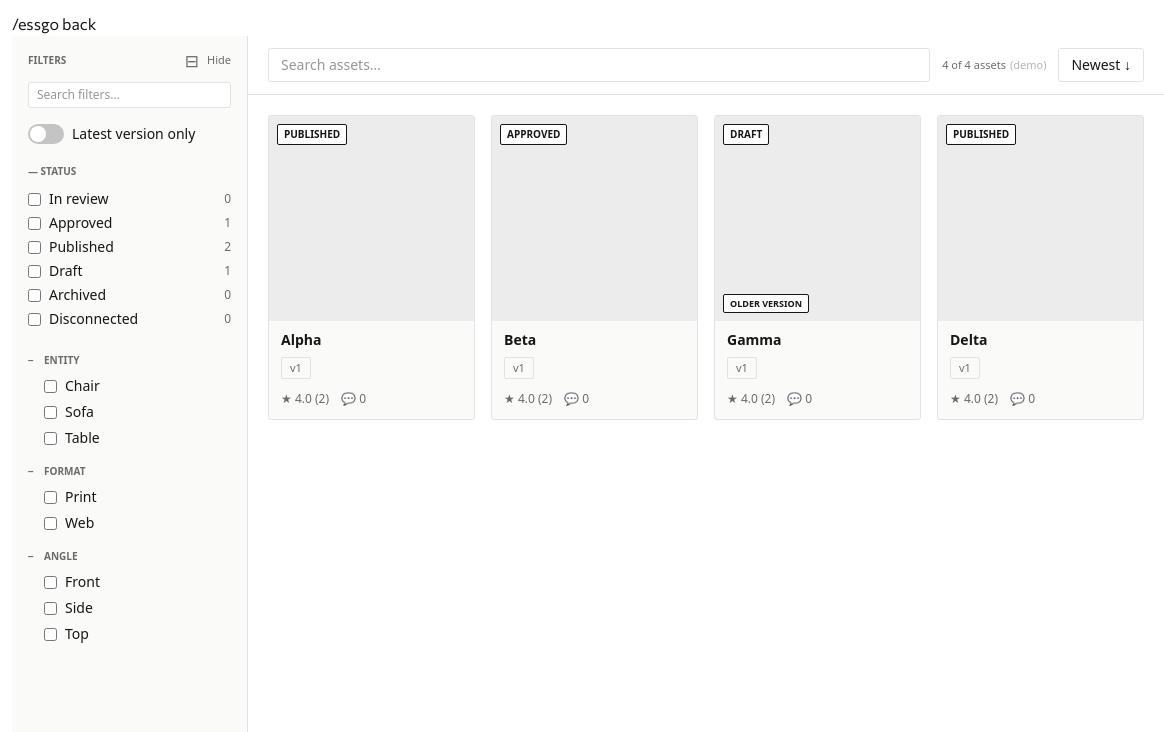
it: interaction writes the URL › several filters accumulate, canonically ordered
Click the checkbox labelled "Sofa" at (50,412), box top-left (44, 406), bottom-right (57, 418)
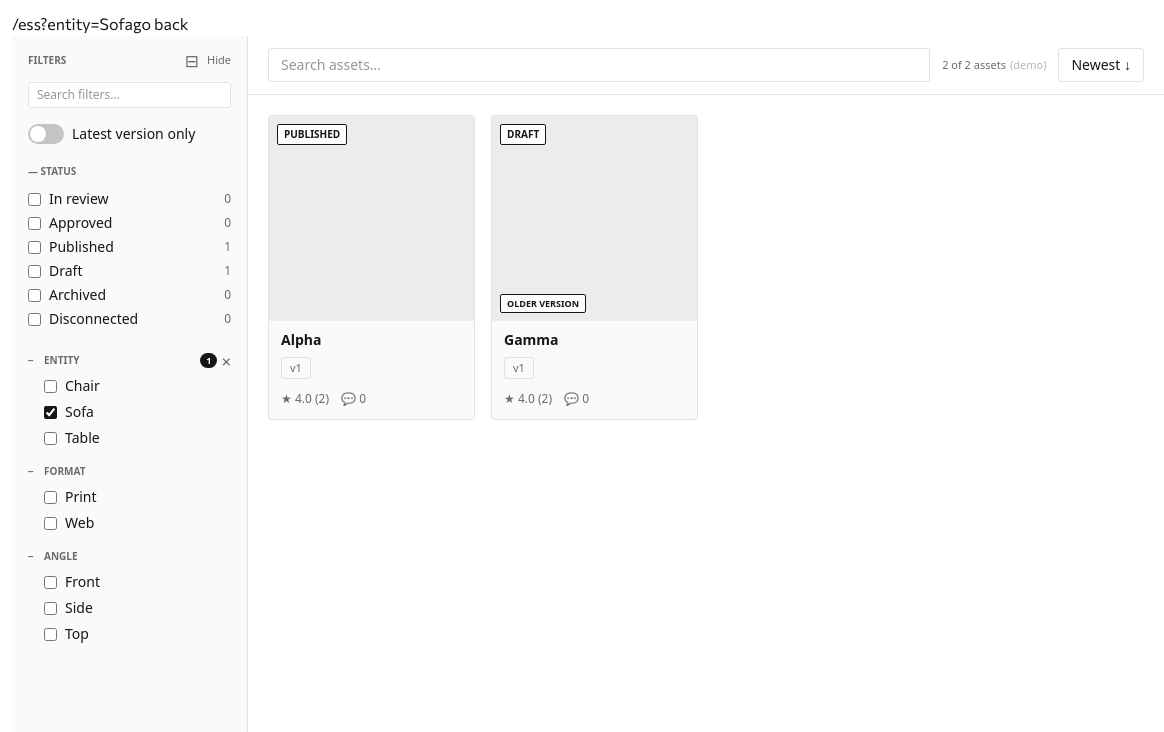
Now the text with test id "url" shows "entity=Sofa", box top-left (12, 14), bottom-right (133, 33)
Click the checkbox labelled "Approved 0" at (34,223), box top-left (28, 216), bottom-right (41, 230)
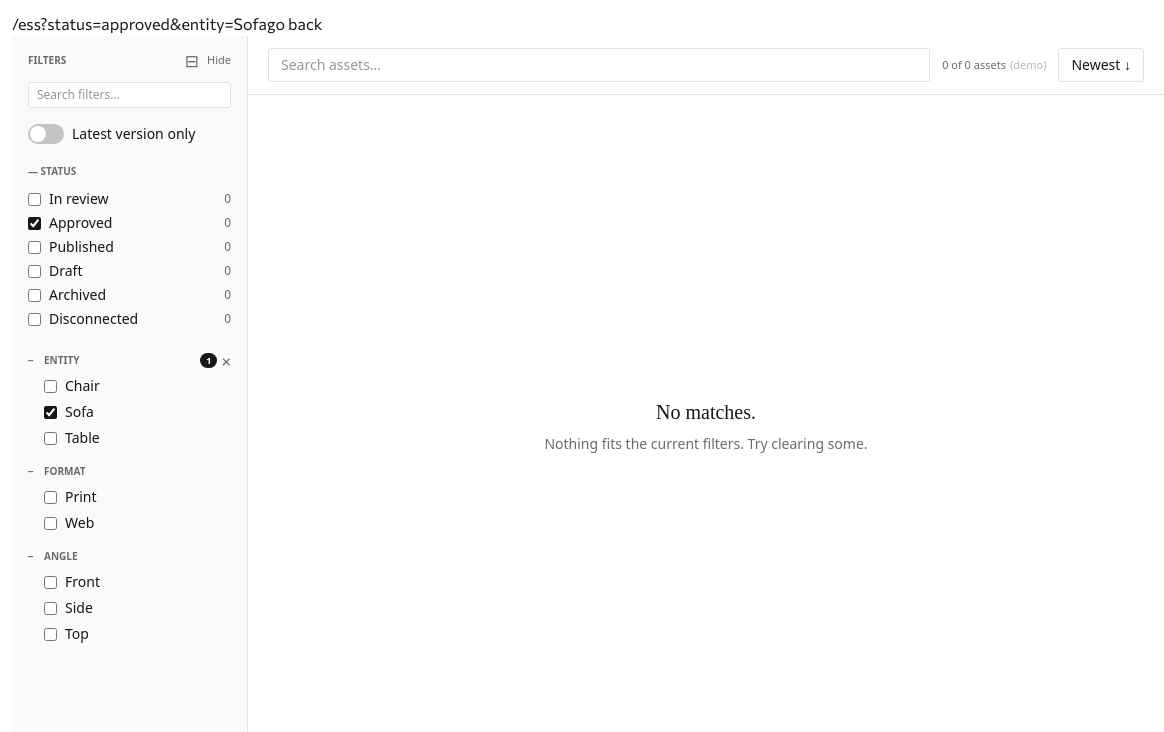
Now the text with test id "url" reads "/ess?status=approved&entity=Sofa", box top-left (12, 14), bottom-right (267, 33)
